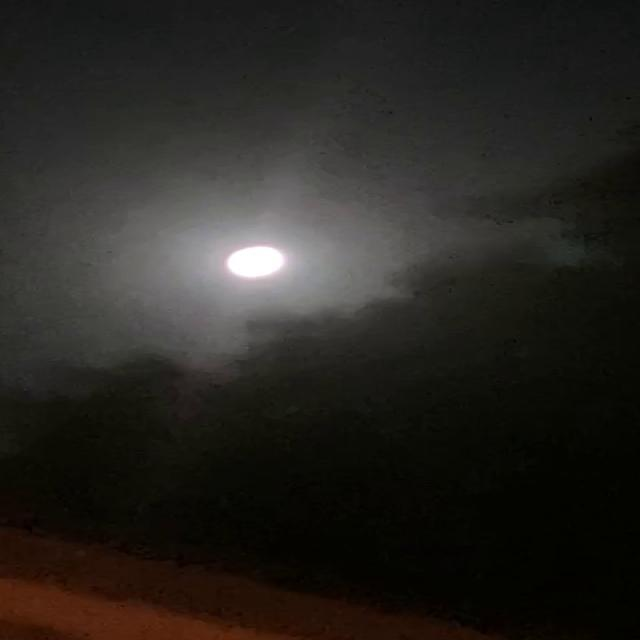moon: (193, 247, 276, 290)
